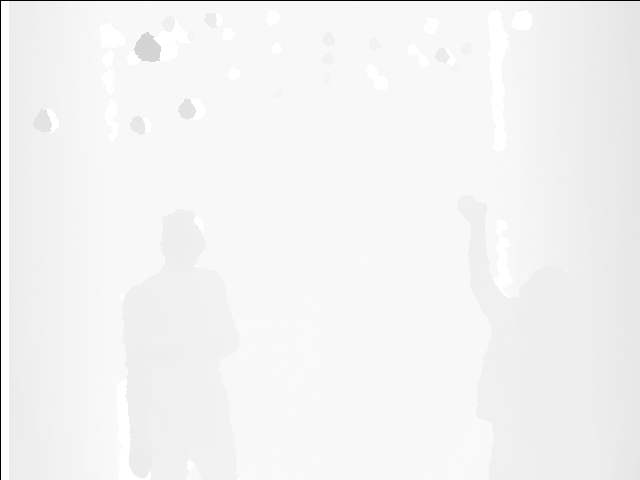hand: (460, 190, 490, 229)
